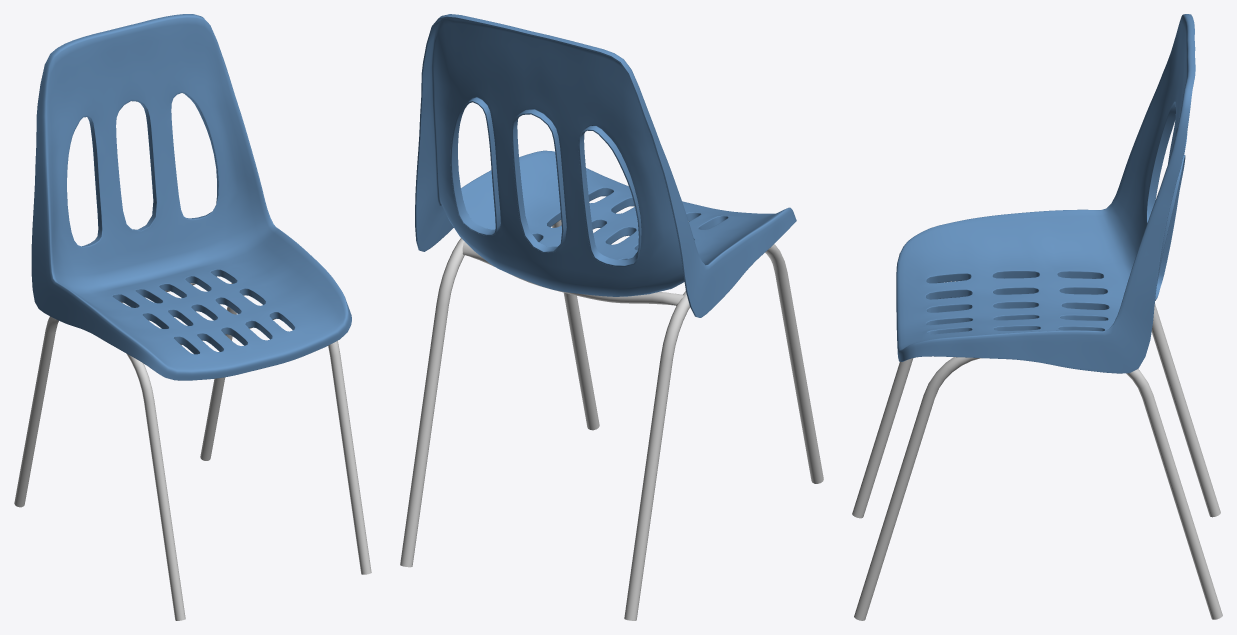
File: Chair.fbx
3 views of the same model, side by side, from view 1: azimuth 30°, elevation 25°; view 2: azimuth 150°, elevation 25°; view 3: azimuth 270°, elevation 25° (orthographic). The views are drawn at different scales.
Visible parts, largest first — view 1: Rectangle294575425; view 2: Rectangle294575425; view 3: Rectangle294575425.
Part boxes in pixels (x1,y1,x2,y2): Rectangle294575425: [14, 14, 371, 620]; Rectangle294575425: [400, 14, 823, 620]; Rectangle294575425: [852, 14, 1222, 620].
Bounding box in the file's own units: 46.27 × 88.31 × 57.01.
